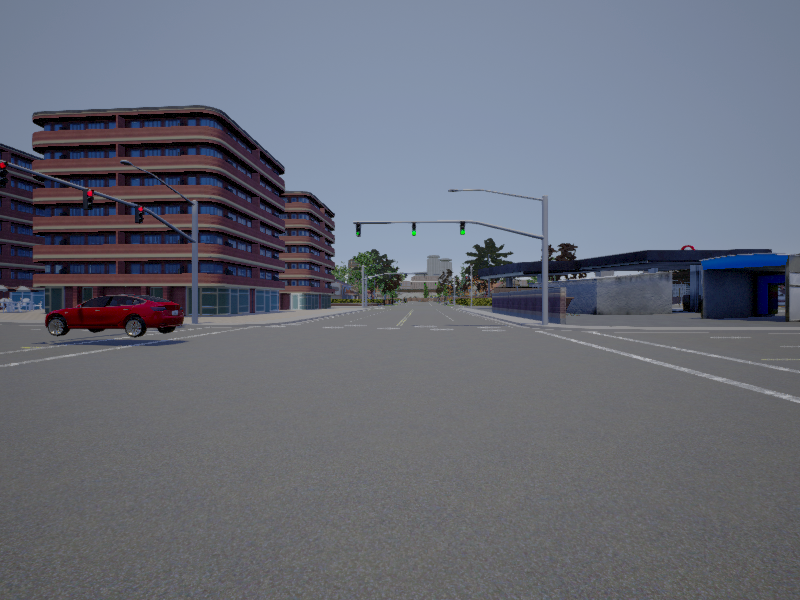Attacker: (45, 294, 186, 337)
